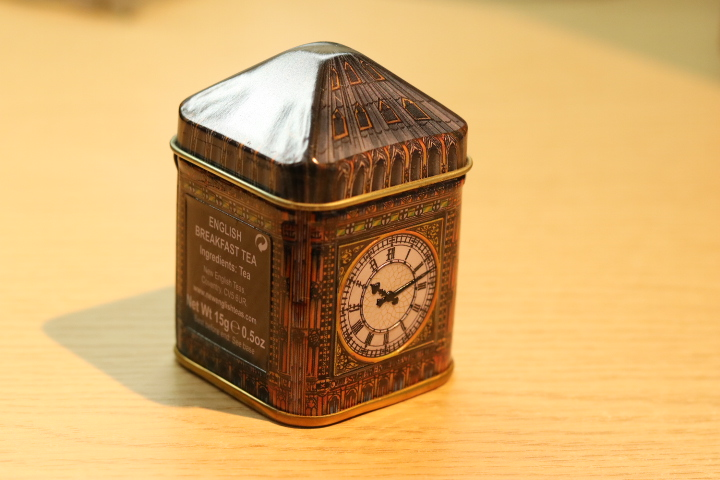Big Ben: (151, 27, 488, 446)
